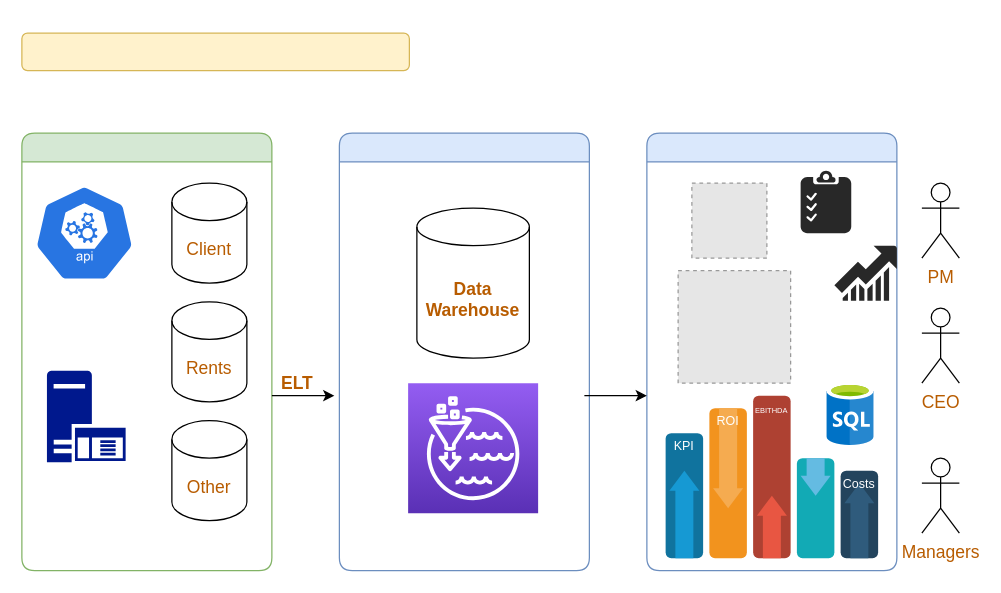
Some shapes in this 1001 by 593 pixel diagram are drawn without their labels. Grey dashed boxes stand in for pictures. Each missing label, with the box of its shape:
Access Layer: (646, 132, 897, 571)
Av.Rev: (800, 458, 830, 495)
DA Architecture for BelkaCar: (21, 32, 409, 71)
Source Layer: (21, 132, 272, 571)
Storage Layer: (338, 132, 589, 571)
